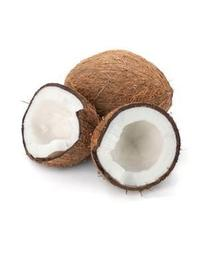coconut: (62, 48, 175, 134), (89, 103, 181, 191), (21, 82, 104, 168)
